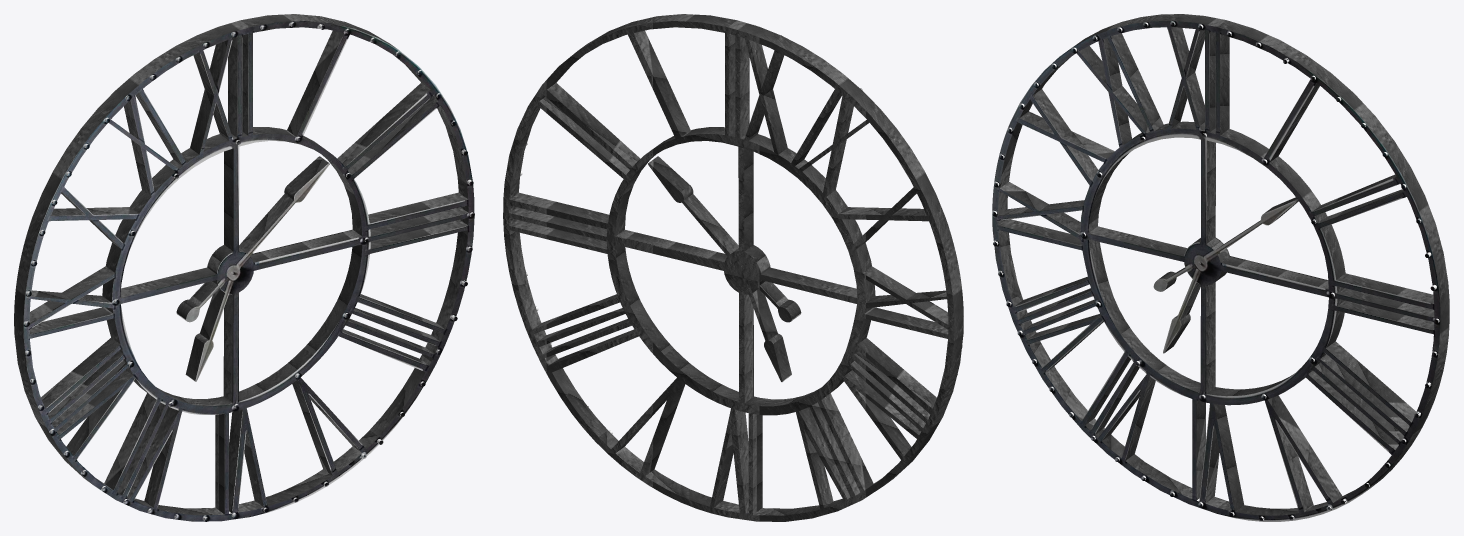
File: Composant_45.fbx
The picture shows the model from 3 angles, left to right: view 1: azimuth 30°, elevation 25°; view 2: azimuth 150°, elevation 25°; view 3: azimuth 330°, elevation 25°; orthographic projection.
Parts seen in each view (by area): view 1: Model; view 2: Model; view 3: Model.
Boxes of the visible parts, x1,y1,x2,y2 form: Model: (14,14,474,521); Model: (503,14,963,521); Model: (992,14,1449,521).
Bounding box in the file's own units: 1.1 × 1.14 × 0.05.
